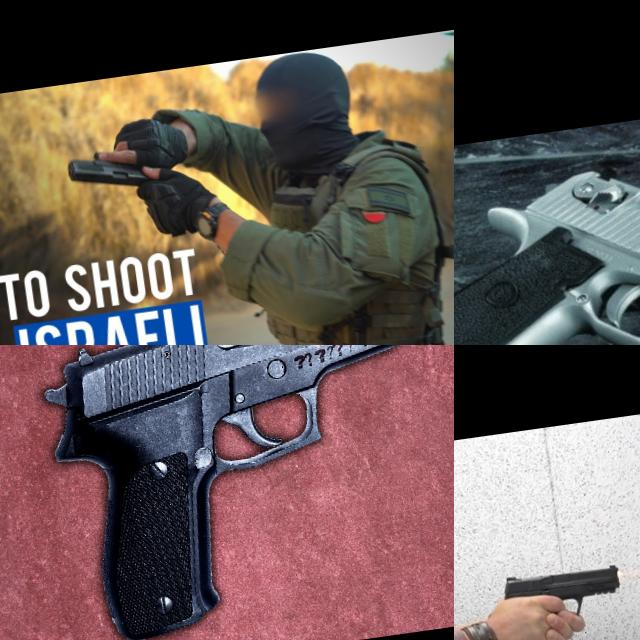handgun: (26, 345, 454, 640), (454, 108, 640, 345), (500, 560, 627, 627), (58, 137, 170, 202)
